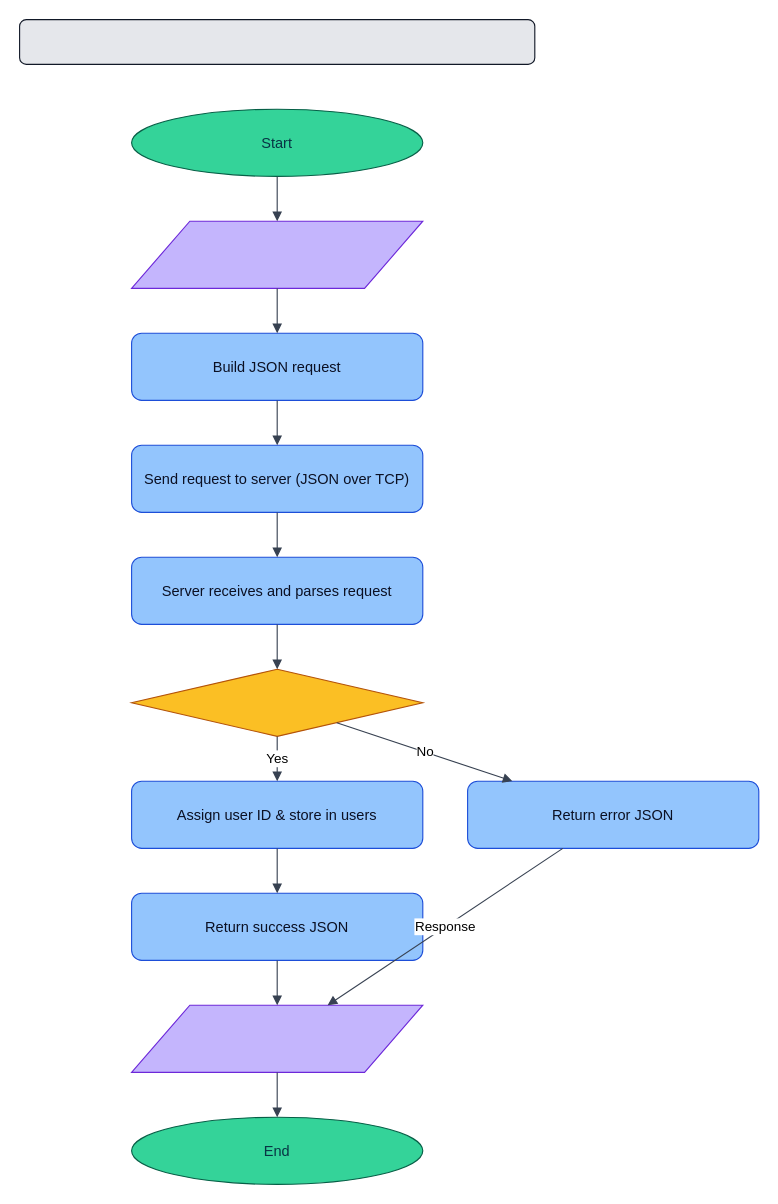
Image size: 778x1204. Some labels were removed from this diagram. Here are the shapes that lost their labels. From the top down, the centre of each, then its label:
At (276,41): "Add User Process".
At (276,254): "Receive user input (name)".
At (276,702): "Name present?".
At (276,1038): "Display confirmation message".
